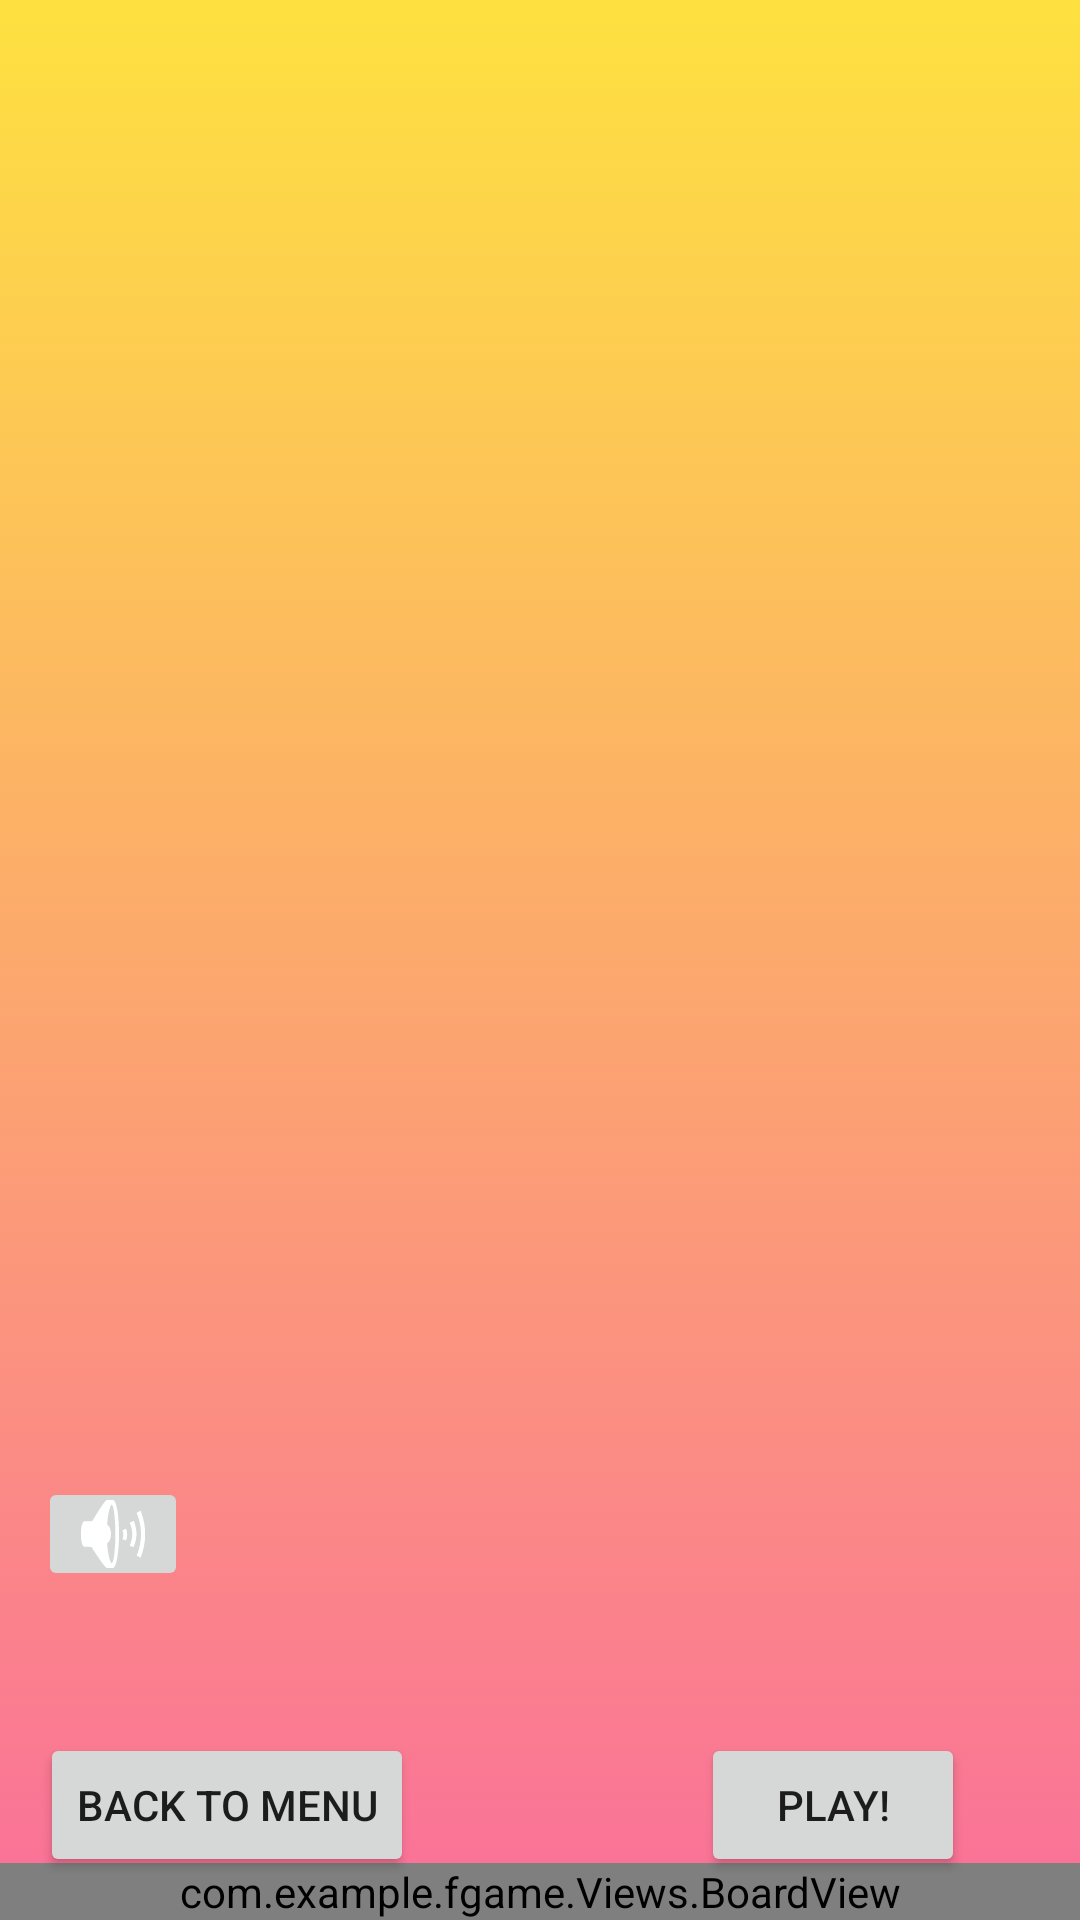

Icons on this 1080px x 1920px Android screen, each with its box as (x1, y1, x2, y2):
lock silent mode off: (50, 1495, 176, 1573)
